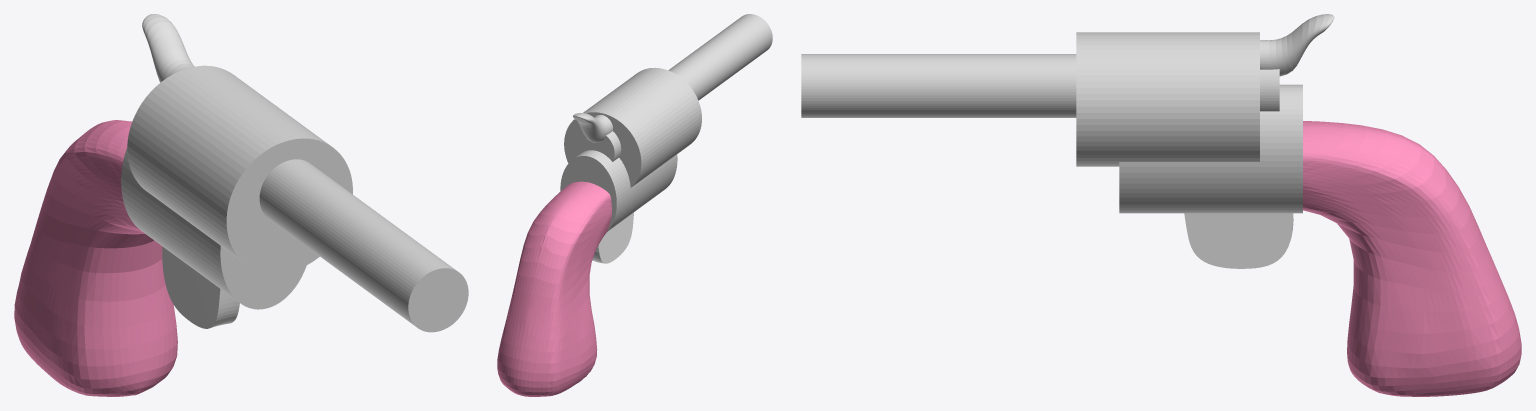
The model's file is Pistol.glb.
The picture shows the model from 3 angles, left to right: view 1: azimuth 30°, elevation 25°; view 2: azimuth 150°, elevation 25°; view 3: azimuth 270°, elevation 25°; orthographic projection. The views are drawn at different scales.
Visible parts, largest first — view 1: Cylinder 3, Cylinder 2, Cylinder (×2), Cylinder 4, Cylinder 5; view 2: Cylinder 3, Cylinder 2, Cylinder (×2), Cylinder 4, Cylinder 5; view 3: Cylinder 3, Cylinder 2, Cylinder (×2), Cylinder 4, Cylinder 5.
Part boxes in pixels (box(x1,y1,x2,y2)): Cylinder 3: box(14, 120, 177, 396); Cylinder 2: box(127, 65, 352, 273); Cylinder (×2): box(162, 159, 468, 332); Cylinder 4: box(121, 147, 306, 309); Cylinder 5: box(142, 14, 194, 82); Cylinder 3: box(497, 181, 611, 396); Cylinder 2: box(564, 67, 701, 187); Cylinder (×2): box(578, 14, 772, 263); Cylinder 4: box(560, 150, 677, 231); Cylinder 5: box(573, 113, 612, 142); Cylinder 3: box(1303, 121, 1521, 396); Cylinder 2: box(1076, 32, 1259, 166); Cylinder (×2): box(801, 54, 1293, 268); Cylinder 4: box(1119, 84, 1302, 213); Cylinder 5: box(1260, 14, 1334, 76).
Size of the model in its own units: 0.9109 by 2.73 by 4.87.
